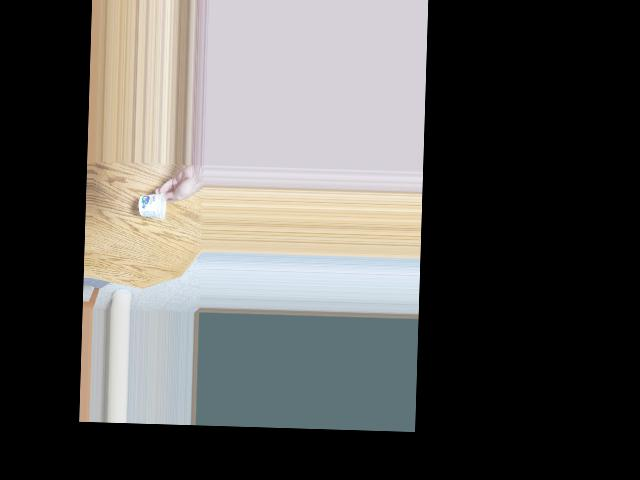cotage: (138, 186, 172, 222)
